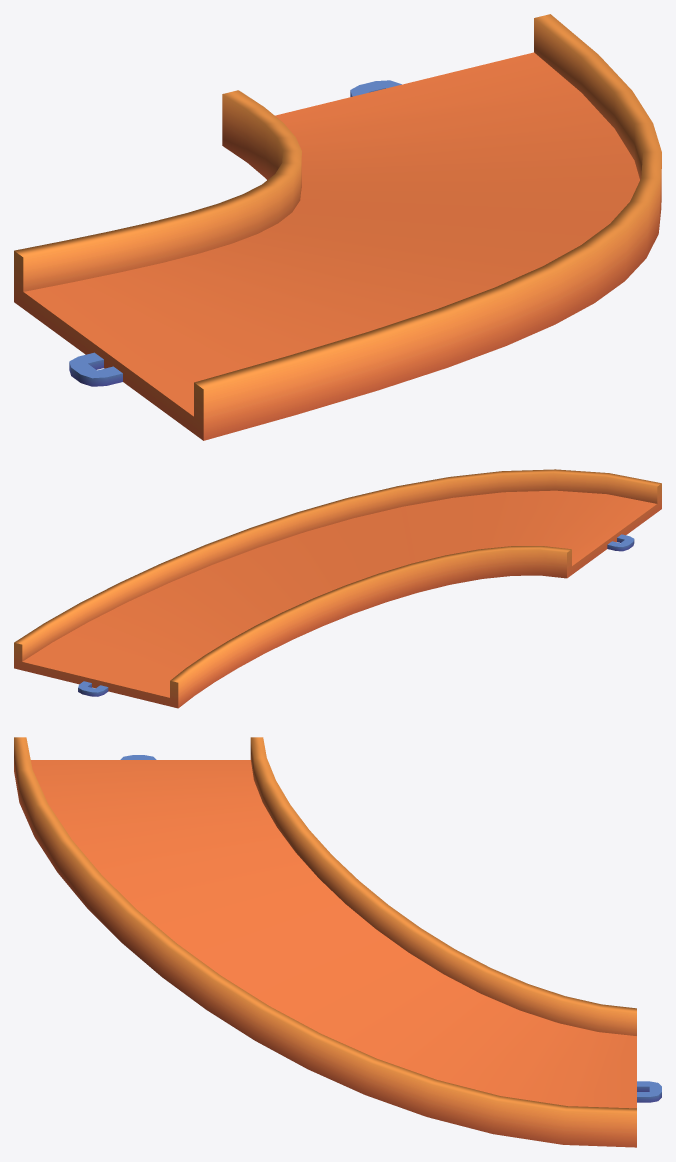
File: track-wide-corner-large-ramp.glb
The picture shows the model from 3 angles, top to bottom: view 1: azimuth 30°, elevation 25°; view 2: azimuth 150°, elevation 25°; view 3: azimuth 270°, elevation 25°; orthographic projection. The views are drawn at different scales.
Parts seen in each view (by area): view 1: track-wide-corner-large-ramp; view 2: track-wide-corner-large-ramp; view 3: track-wide-corner-large-ramp.
Boxes of the visible parts, box(x1,y1,x2,y2) form: track-wide-corner-large-ramp: box(14, 14, 661, 440); track-wide-corner-large-ramp: box(14, 469, 661, 708); track-wide-corner-large-ramp: box(14, 737, 661, 1147).
Size of the model in its own units: 5.2 by 1.3 by 5.2.
Materials: 1 (1 with a texture image).
